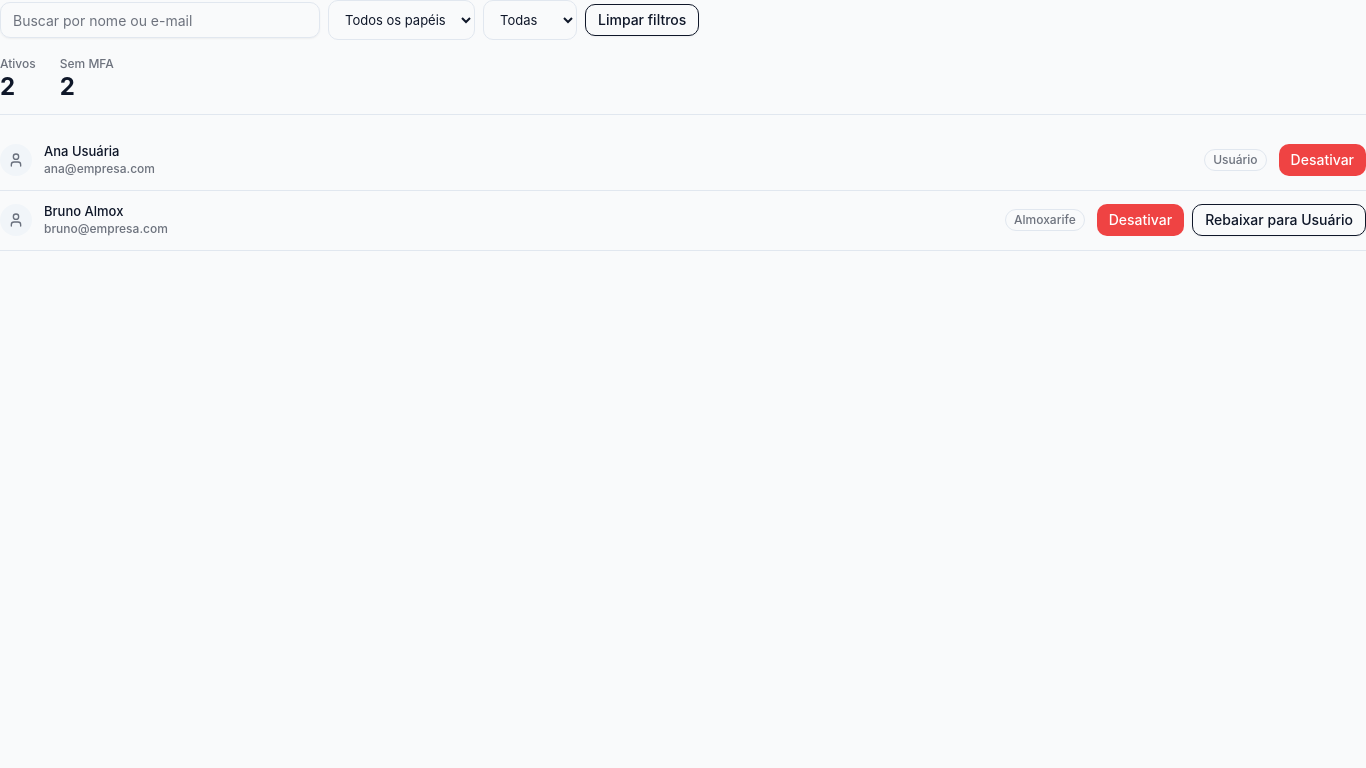
GestaoUsuariosSection › falha de ação (409) mostra role="alert" e refaz o GET /api/usuarios
Step 1. Click the button with aria-label "Rebaixar Bruno Almox para Usuário" → [1279, 220], box [1192,204,1365,236]
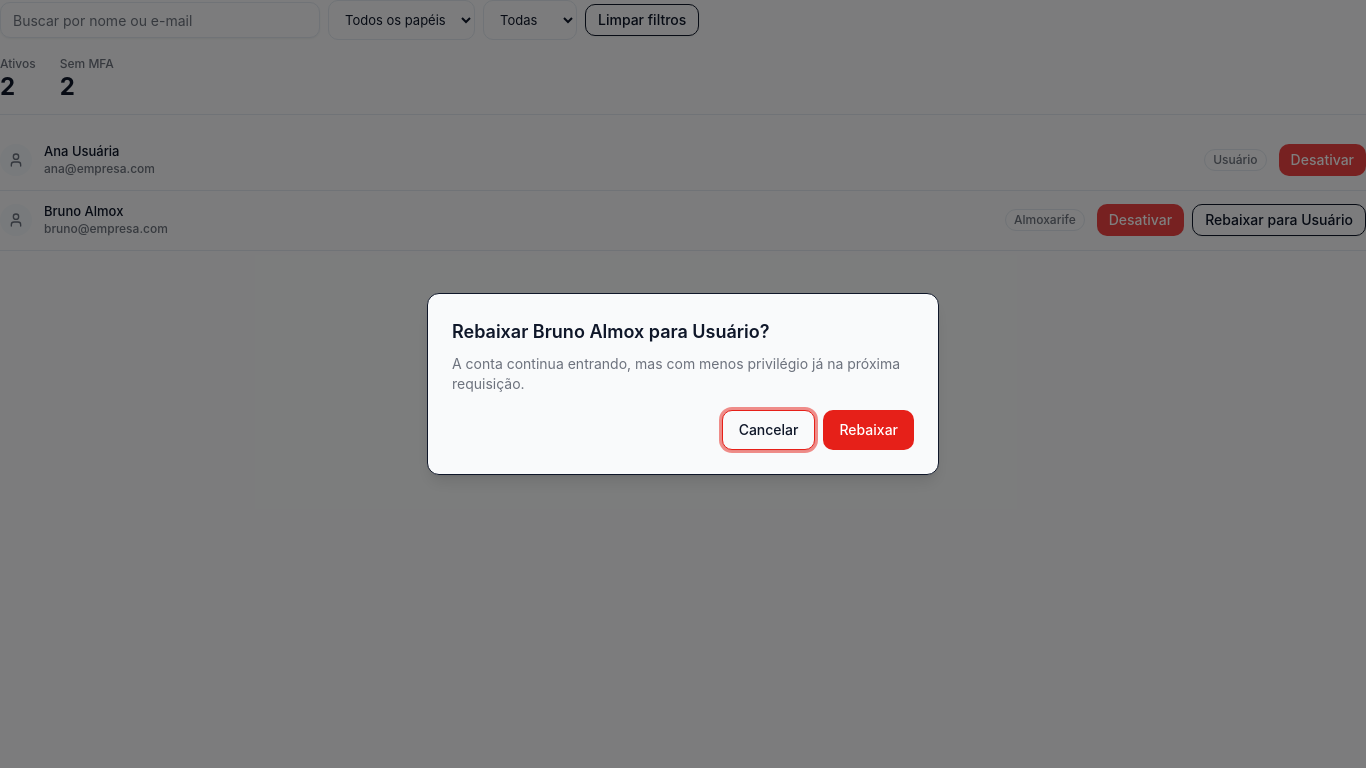
Step 2. Click the button "Rebaixar" → [869, 430], box [824,410,914,450]
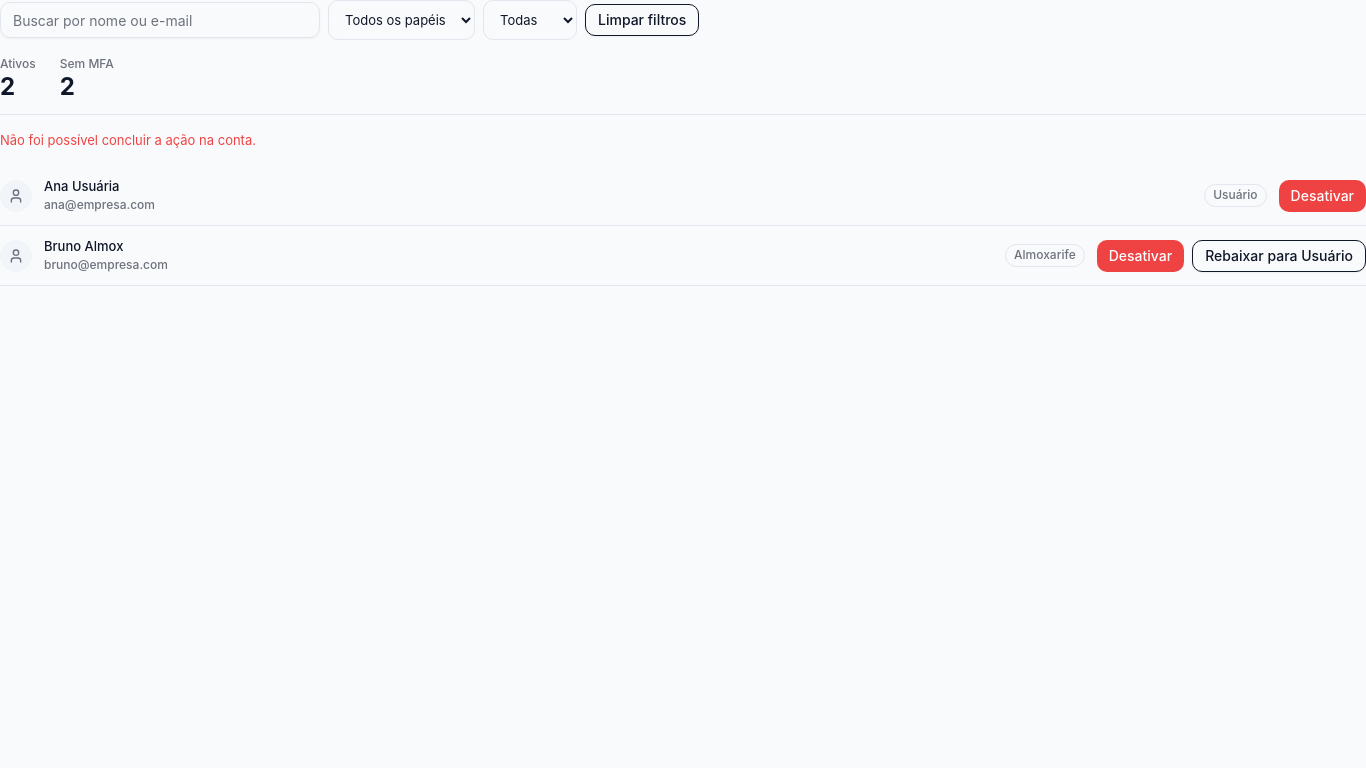
expect the message reads "Não foi possível concluir a ação na conta.": met, box [0,132,256,148]
